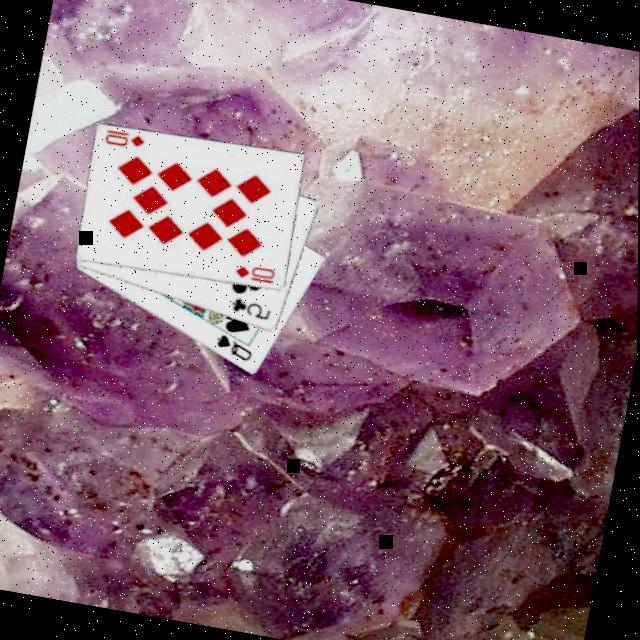10D: (98, 124, 147, 152), (229, 258, 277, 286)
5C: (225, 292, 273, 323)
QS: (208, 328, 256, 364)
